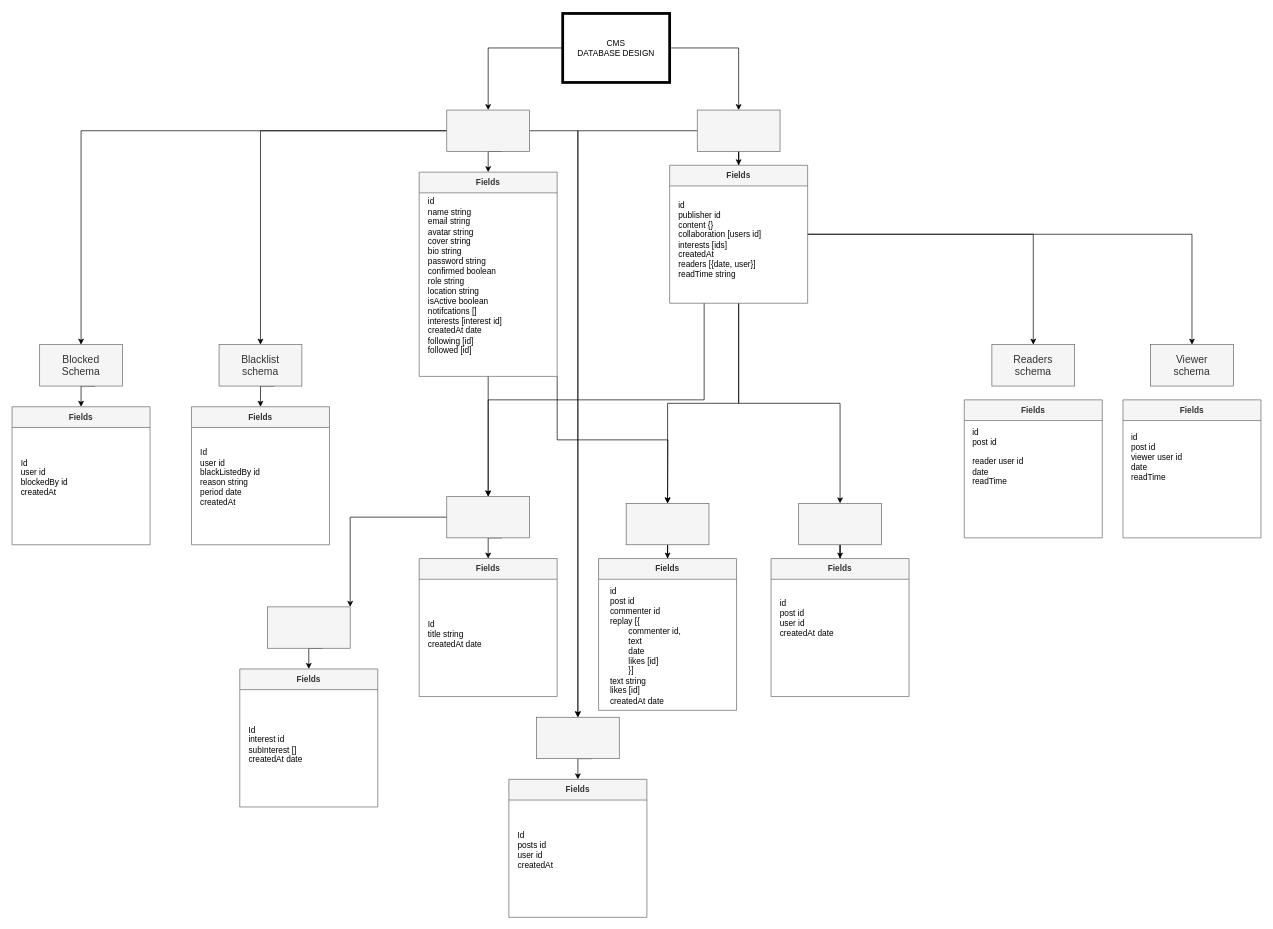
This 1273x929 diagram has some shape labels left out. The centre of each missing label's shape, as x and y in pixels:
Blog Scheme: the point at 738,130
Comments schema: the point at 667,524
Interests schema: the point at 488,517
Likes schema: the point at 839,524
Saved schema: the point at 577,738
Subinterest schema: the point at 308,627
User schema: the point at 488,130
